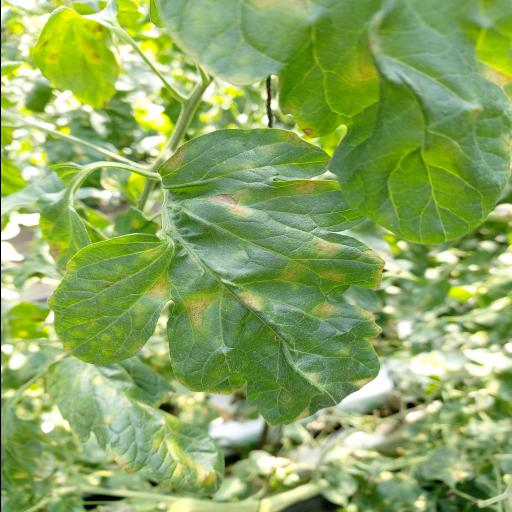Leaf Mold: (48, 129, 384, 427), (45, 364, 226, 496)
